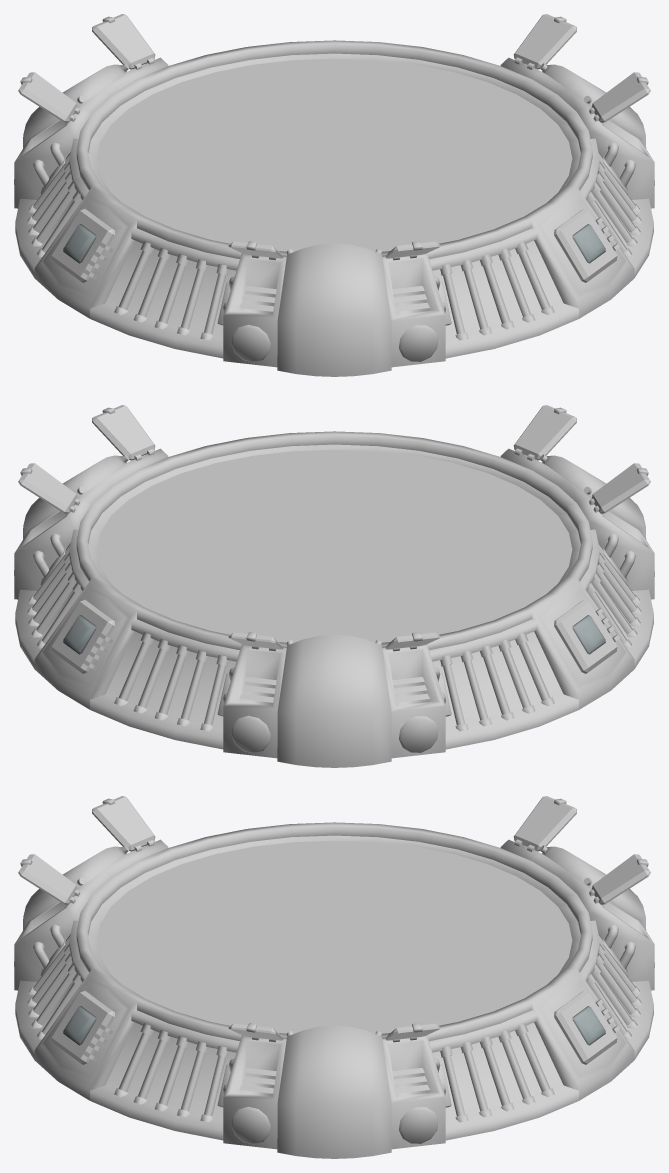
Rendered from Structure_v5.FBX.
The picture shows the model from 3 angles, top to bottom: view 1: azimuth 30°, elevation 25°; view 2: azimuth 150°, elevation 25°; view 3: azimuth 270°, elevation 25°; orthographic projection.
Visible parts, largest first — view 1: Structure_v5_body, Structure_v5_platform; view 2: Structure_v5_body, Structure_v5_platform; view 3: Structure_v5_body, Structure_v5_platform.
Part boxes in pixels (<box>): Structure_v5_body: <box>14,14,654,376</box>; Structure_v5_platform: <box>96,58,572,251</box>; Structure_v5_body: <box>14,405,654,767</box>; Structure_v5_platform: <box>96,449,572,642</box>; Structure_v5_body: <box>14,796,654,1158</box>; Structure_v5_platform: <box>96,840,572,1033</box>.
Bounding box in the file's own units: 9.25 × 1.84 × 8.96.
